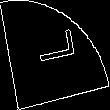L_W: (31, 35, 79, 75)
